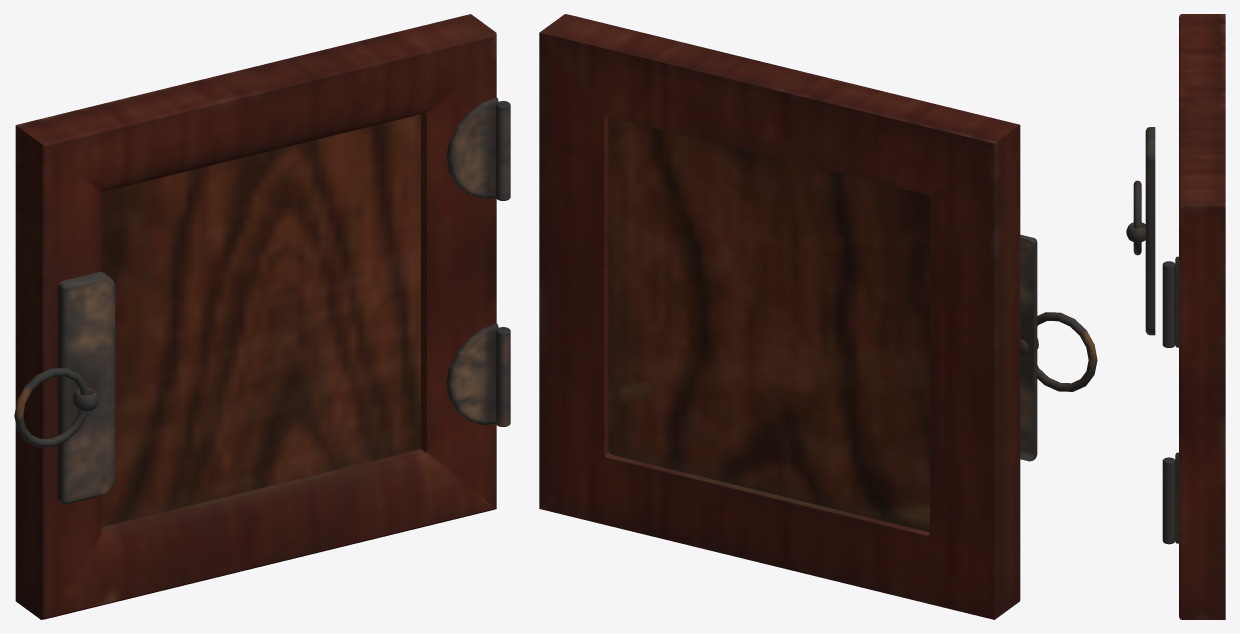
The model's file is SM_ThreetieredCupboard_door08.fbx.
3 renders of one model, left to right at view 1: azimuth 30°, elevation 25°; view 2: azimuth 150°, elevation 25°; view 3: azimuth 270°, elevation 25°, orthographic. The views are drawn at different scales.
Visible parts, largest first — view 1: SM_ThreetieredCupboard_door08; view 2: SM_ThreetieredCupboard_door08; view 3: SM_ThreetieredCupboard_door08.
Boxes of the visible parts, left/top/right/bottom form: SM_ThreetieredCupboard_door08: left=14, top=14, right=510, bottom=619; SM_ThreetieredCupboard_door08: left=539, top=14, right=1097, bottom=619; SM_ThreetieredCupboard_door08: left=1126, top=14, right=1225, bottom=619.
Size of the model in its own units: 32.59 by 28.92 by 6.3.
Materials: 1 (1 with a texture image).
